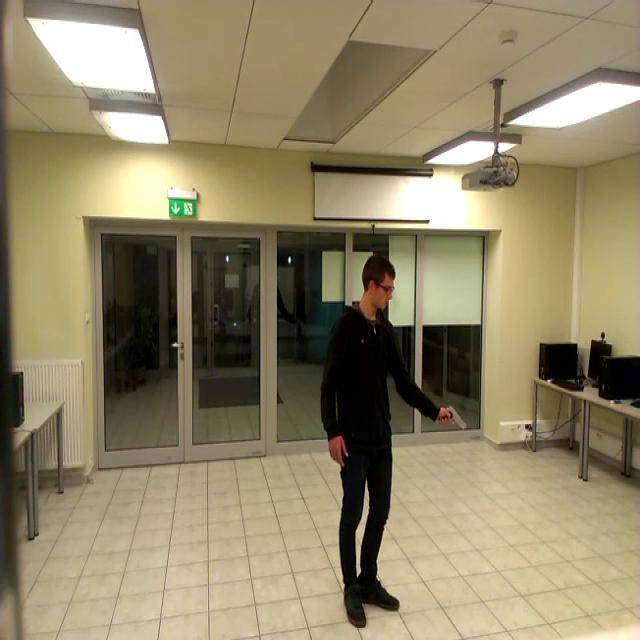Gun: (439, 404, 466, 428)
